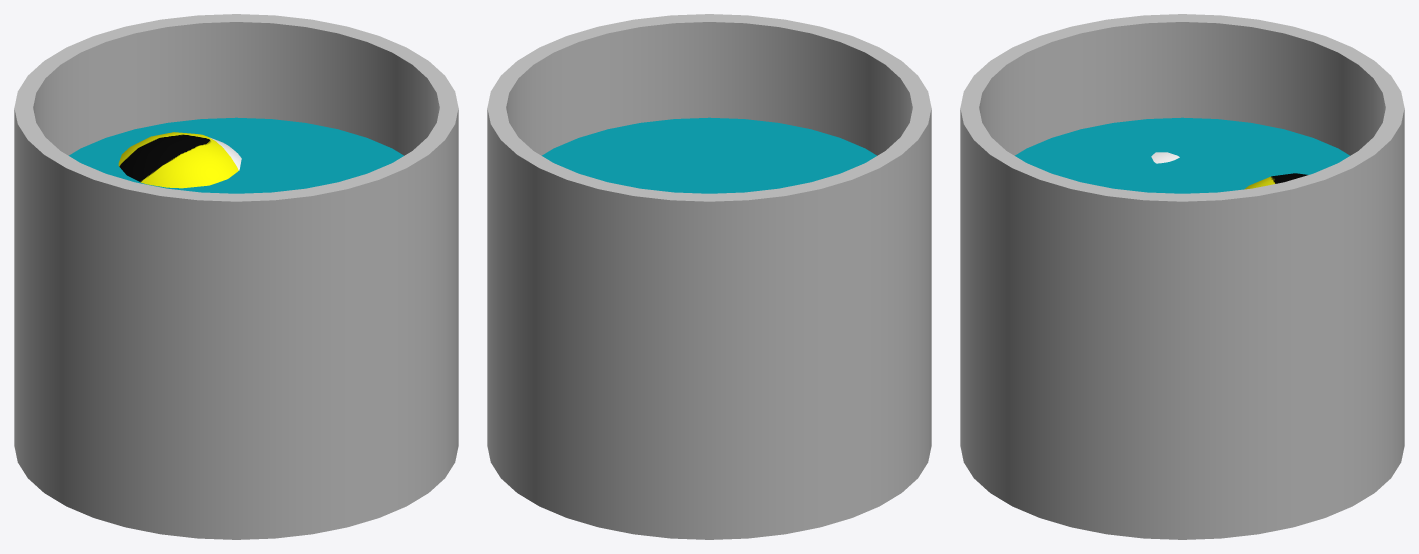
The model's file is Eye_Yellow.fbx.
3 renders of one model, left to right at view 1: azimuth 30°, elevation 25°; view 2: azimuth 150°, elevation 25°; view 3: azimuth 270°, elevation 25°, orthographic.
Parts seen in each view (by area): view 1: Tube, Disque_1, Sphère; view 2: Tube, Disque_1; view 3: Tube, Disque_1.
Boxes of the visible parts, x1,y1,x2,y2 form: Tube: (14, 14, 458, 539); Disque_1: (69, 117, 403, 193); Sphère: (118, 132, 241, 188); Tube: (487, 14, 931, 539); Disque_1: (542, 117, 876, 193); Tube: (960, 14, 1404, 539); Disque_1: (1015, 117, 1349, 193).
Bounding box in the file's own units: 241 × 202 × 241.
3 materials, 1 textured.
